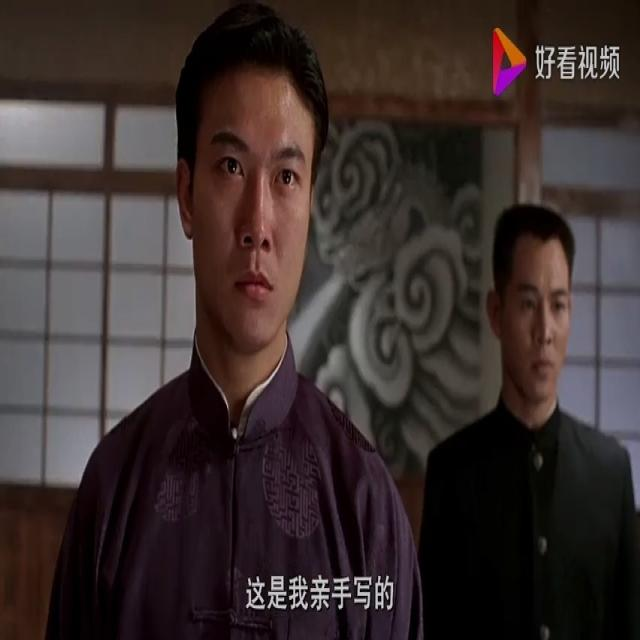non-fight: (44, 0, 414, 640), (416, 154, 640, 640)
